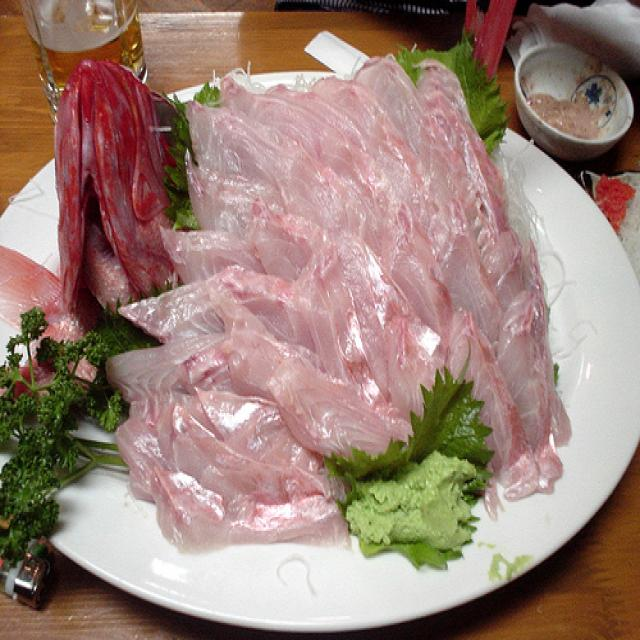刺身生食: (0, 0, 603, 640)
